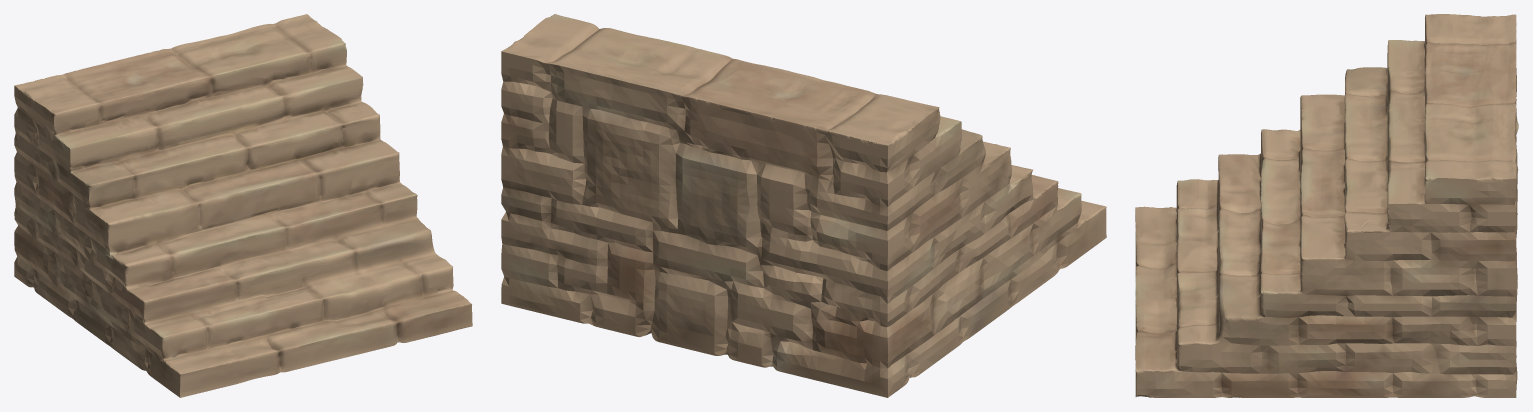
File: Stair_01_LOD1.glb
3 views of the same model, side by side, from view 1: azimuth 30°, elevation 25°; view 2: azimuth 150°, elevation 25°; view 3: azimuth 270°, elevation 25° (orthographic). The views are drawn at different scales.
Visible parts, largest first — view 1: Box; view 2: Box; view 3: Box.
Part boxes in pixels (box(x1,y1,x2,y2)): Box: box(14, 14, 472, 397); Box: box(501, 14, 1106, 397); Box: box(1135, 14, 1518, 397).
Bounding box in the file's own units: 1.52 × 0.9571 × 1.49.
